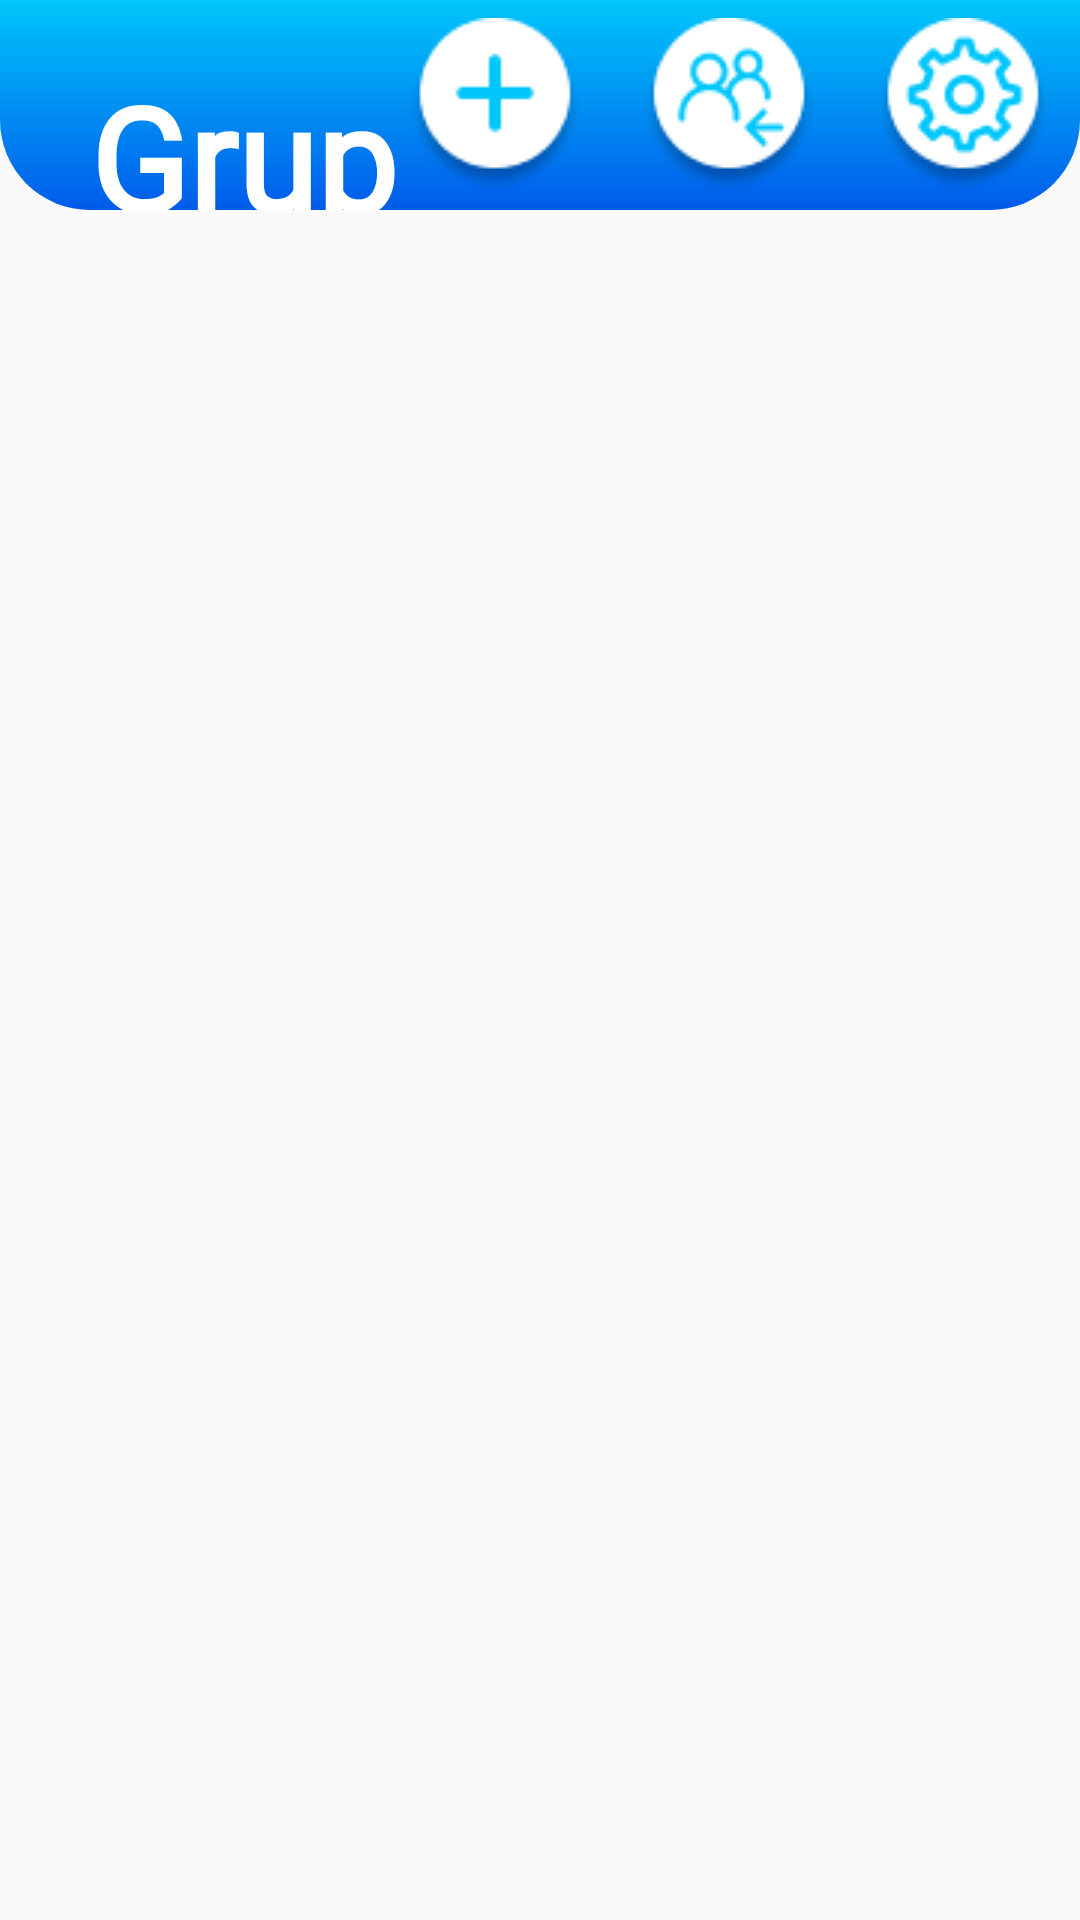

Icons on this 1080x1920 Android screen, each with the point to tap as point (x, y):
Ajustes de Grupo: point (963, 105)
Entrar: point (729, 105)
